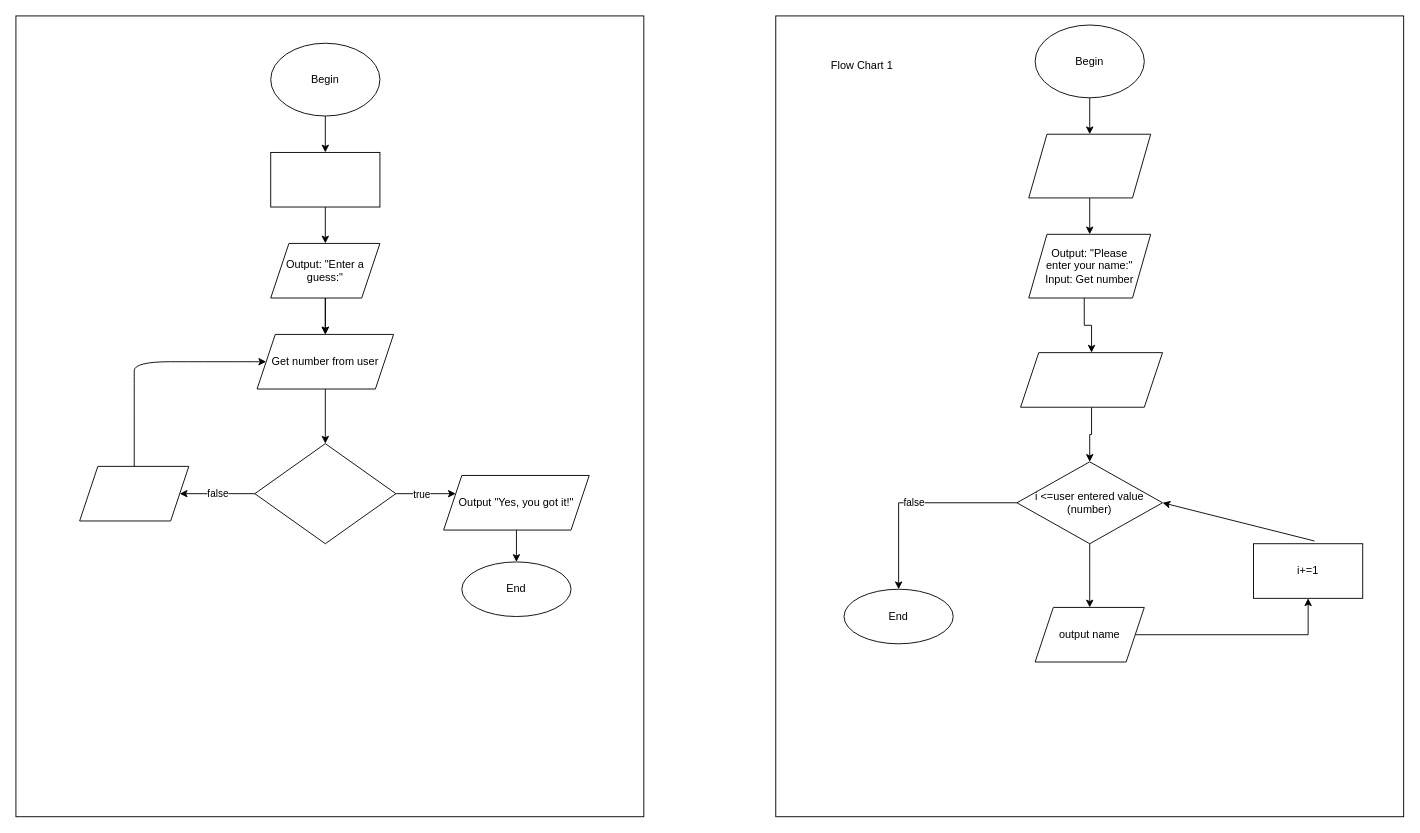
Some shapes in this 1420 by 833 pixel diagram are drawn without their labels. Here are the shapes that lost their labels. From the top down, the centre of each, then its label:
[325,179]: Generate random number between 1 and 5
[1089,165]: Output: "Please enter your name:" Input: Get name
[1091,379]: Output: "----------------"
[134,493]: Output "Sorry, try again!"
[325,493]: number from user is the generated number
